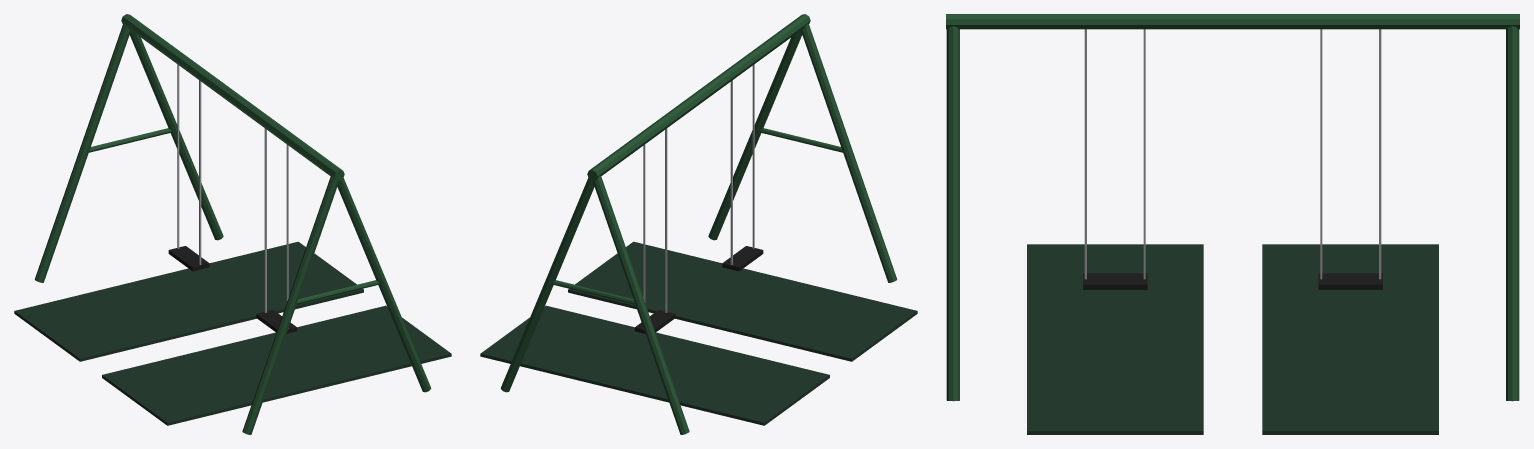
File: SM_Prop_play_swings_0.glb
3 views of the same model, side by side, from view 1: azimuth 30°, elevation 25°; view 2: azimuth 150°, elevation 25°; view 3: azimuth 270°, elevation 25° (orthographic). The views are drawn at different scales.
Visible parts, largest first — view 1: SM_Prop_play_swings_0; view 2: SM_Prop_play_swings_0; view 3: SM_Prop_play_swings_0.
Part boxes in pixels (x1,y1,x2,y2): SM_Prop_play_swings_0: (14, 14, 451, 434); SM_Prop_play_swings_0: (480, 14, 917, 434); SM_Prop_play_swings_0: (946, 14, 1519, 434).
Bounding box in the file's own units: 3 × 2.47 × 3.9.
